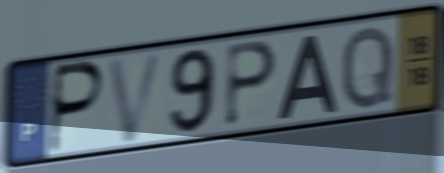9: (167, 46, 219, 137)
A: (275, 31, 341, 122)
P: (46, 59, 108, 157), (222, 38, 280, 130)
Q: (338, 22, 396, 113)
V: (104, 47, 168, 147)
